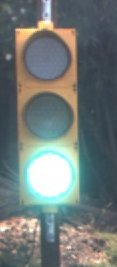Green: (13, 18, 107, 236)
